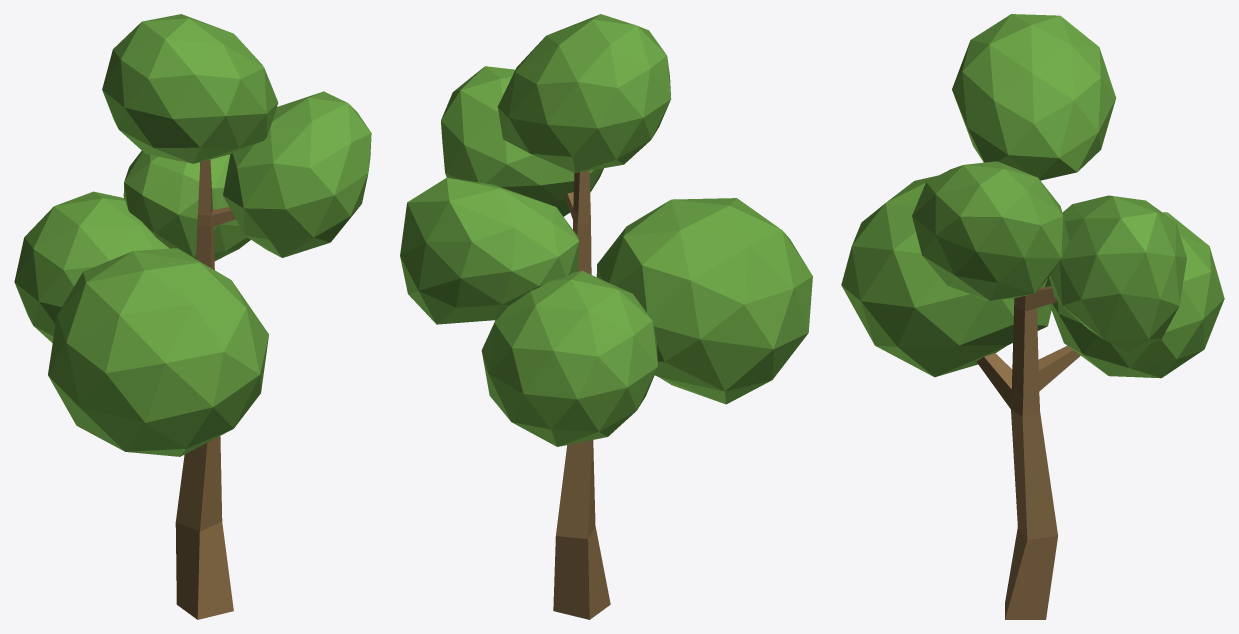
File: forest-oak-b.glb
3 renders of one model, left to right at view 1: azimuth 30°, elevation 25°; view 2: azimuth 150°, elevation 25°; view 3: azimuth 270°, elevation 25°, orthographic. The views are drawn at different scales.
Visible parts, largest first — view 1: OakTree2; view 2: OakTree2; view 3: OakTree2.
Boxes of the visible parts, bbox=[...] form: OakTree2: bbox=[14, 14, 371, 619]; OakTree2: bbox=[400, 14, 812, 619]; OakTree2: bbox=[841, 14, 1224, 619].
Bounding box in the file's own units: 4.27 × 7.63 × 4.58.
